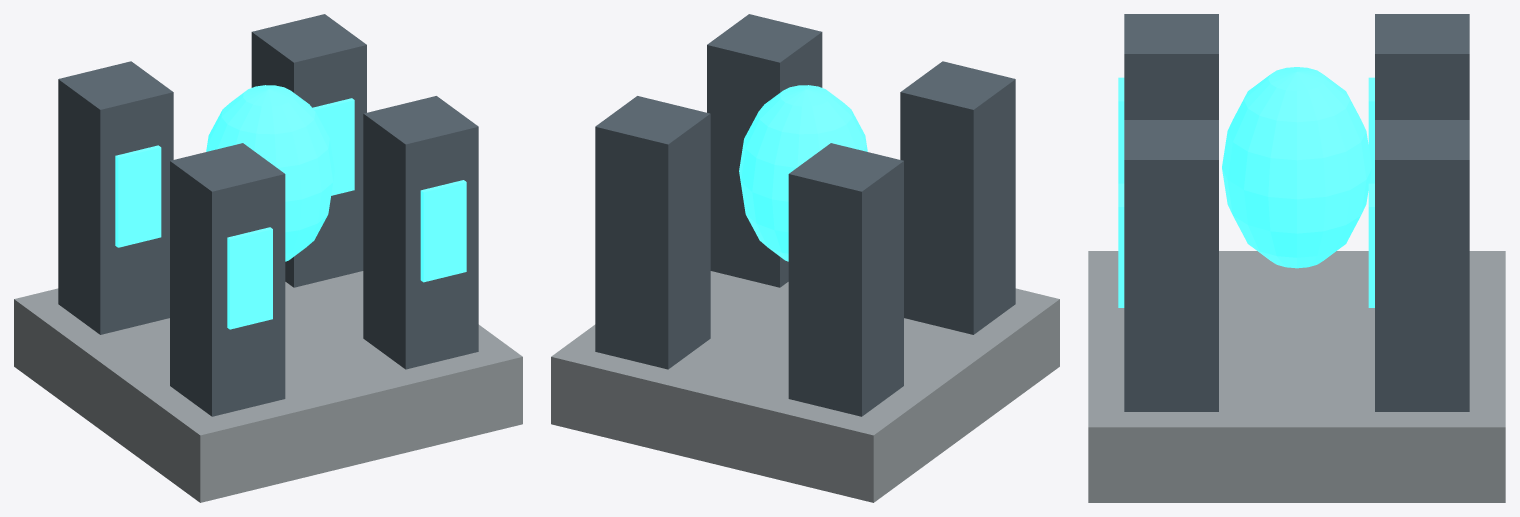
The model's file is command-core.glb.
3 renders of one model, left to right at view 1: azimuth 30°, elevation 25°; view 2: azimuth 150°, elevation 25°; view 3: azimuth 270°, elevation 25°, orthographic. The views are drawn at different scales.
Visible parts, largest first — view 1: command dais, command tower, command tower.002, command tower.001, command tower.003, command hologram, core light.001, core light.002, core light, core light.003; view 2: command dais, command tower.003, command tower.001, command tower, command tower.002, command hologram; view 3: command dais, command tower.002, command tower.003, command hologram, command tower, command tower.001, core light.002, core light.003, core light, core light.001.
Part boxes in pixels (x1,y1,x2,y2): command dais: (14, 271, 522, 502); command tower: (170, 143, 285, 416); command tower.002: (363, 96, 478, 369); command tower.001: (58, 61, 173, 334); command tower.003: (251, 14, 366, 287); command hologram: (206, 85, 334, 261); core light.001: (115, 145, 161, 247); core light.002: (420, 180, 466, 282); core light: (227, 227, 272, 329); core light.003: (312, 98, 354, 195); command dais: (551, 271, 1059, 502); command tower.003: (595, 96, 710, 369); command tower.001: (788, 143, 903, 416); command tower: (900, 61, 1015, 334); command tower.002: (707, 14, 822, 287); command hologram: (739, 85, 867, 261); command dais: (1088, 251, 1505, 502); command tower.002: (1124, 120, 1218, 411); command tower.003: (1375, 120, 1469, 411); command hologram: (1222, 67, 1371, 268); command tower: (1124, 14, 1218, 119); command tower.001: (1375, 14, 1469, 119); core light.002: (1118, 183, 1124, 307); core light.003: (1368, 183, 1374, 307); core light: (1118, 77, 1124, 183); core light.001: (1368, 77, 1374, 183).
Bounding box in the file's own units: 1.5 × 1.36 × 1.5.
